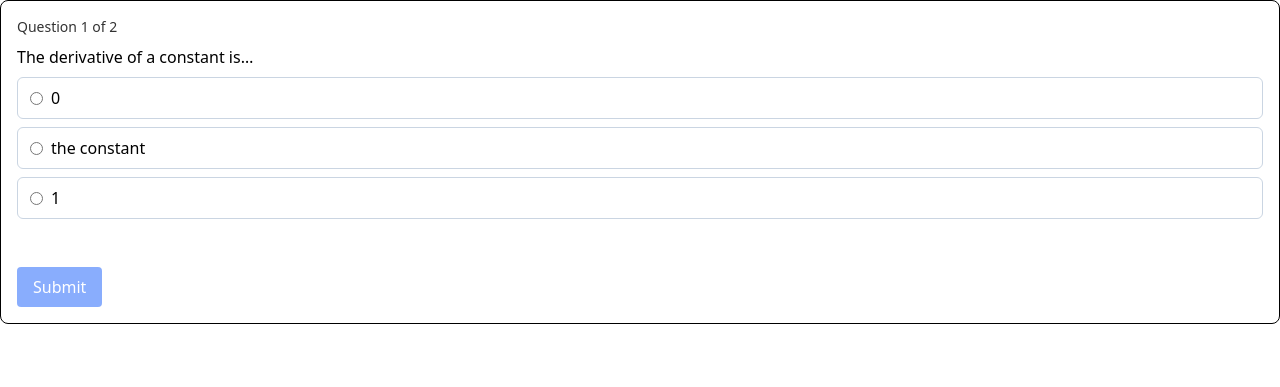
Scenario: accessibility (FR-QUIZ-005, NFR-A11Y-001, AC-07) › renders the feedback container with aria-live="polite" before and after answering
Click the radio button labelled "the constant": point(36, 148) [30,142,43,154]
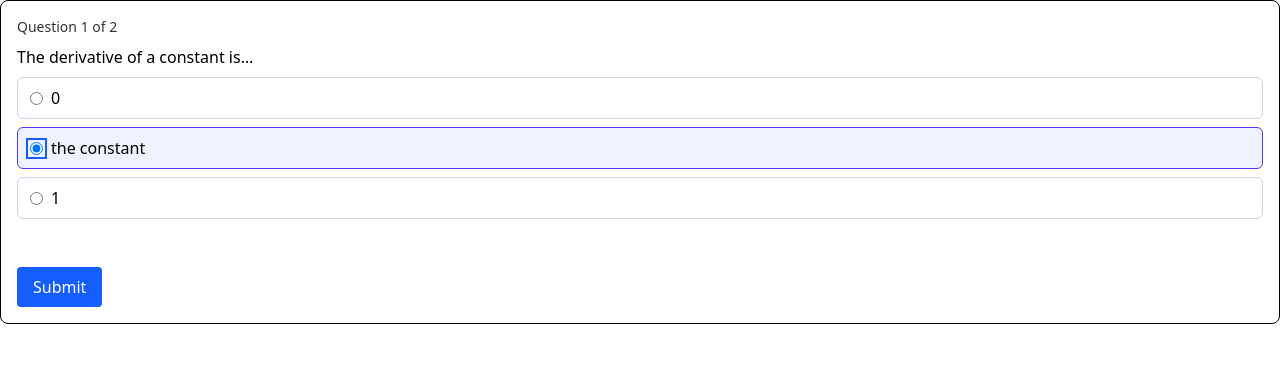
Click the button "Submit": point(60, 287) [17,267,102,307]
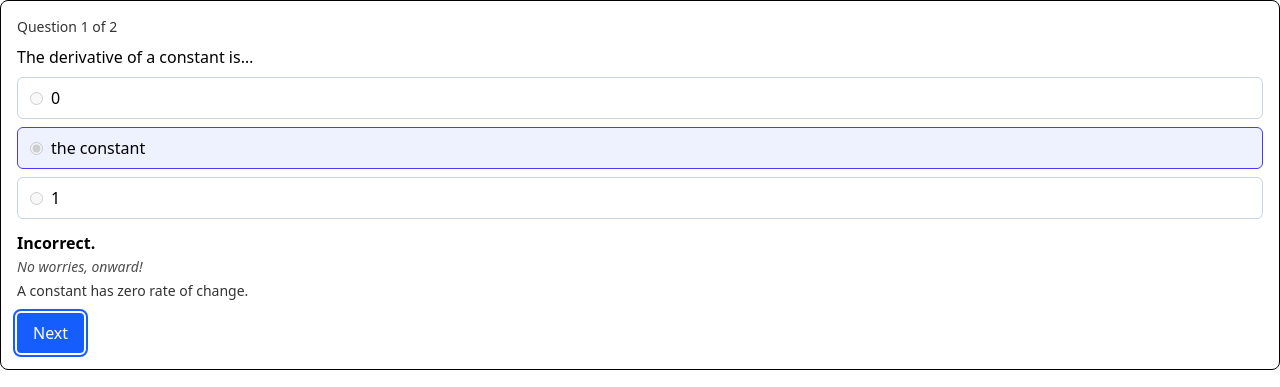
Check: the element that starts with "Incorrect." is shown, box [17,232,95,254]
